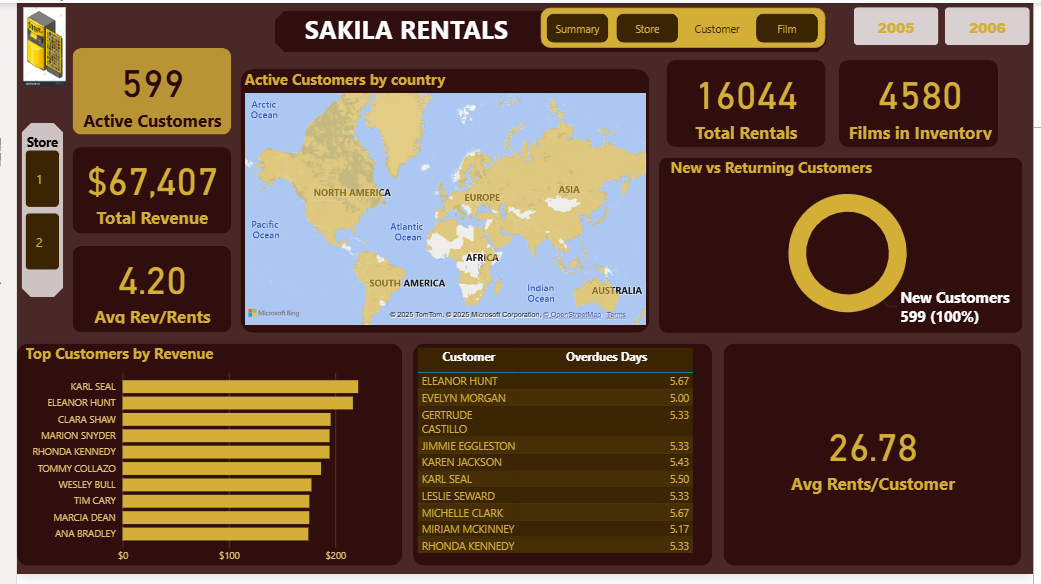

What the dashboard file says about the page in this screenshot:
{"tool":"powerbi","page":{"name":"Summary","canvas":[1280,720],"ordinal":0},"visuals":[{"type":"shape","box":[70.2,181.2,200,109],"z":0},{"type":"shape","box":[70,57.3,200,109],"z":1000},{"type":"shape","box":[70,305.4,200,109],"z":2000},{"type":"shape","box":[819.2,72.6,200.4,109.8],"z":3000},{"type":"shape","box":[1035.5,72.6,200.4,109.8],"z":4000},{"type":"shape","box":[0,429.5,485.1,279.9],"z":5000},{"type":"shape","box":[499.5,429.5,377,279.9],"z":6000},{"type":"shape","box":[890.7,429.5,375.4,279.9],"z":7000},{"type":"shape","box":[281.3,82.7,515.4,332.4],"z":8000},{"type":"shape","box":[324.5,9.5,695.1,52.5],"z":9000},{"type":"shape","box":[808,194.1,458.1,221.1],"z":10000},{"type":"textbox","box":[311.8,5.7,277.8,62.4],"z":11000},{"type":"card","title":"Total Revenue","fields":{"Values":["Rentals and Payment.Active Customers"]},"box":[70,58.9,200.4,103.4],"z":12000},{"type":"card","fields":{"Values":["Rentals and Payment.Total Revenue"]},"box":[70,181.3,200.4,103],"z":13000},{"type":"card","fields":{"Values":["Rentals and Payment.Avg Rev/Rents"]},"box":[70,305.4,200.4,103],"z":14000},{"type":"card","fields":{"Values":["Rentals and Payment.Total Rentals"]},"box":[819.2,73.2,200.4,103.4],"z":15000},{"type":"card","fields":{"Values":["Rentals and Payment.Films in Inventory"]},"box":[1037.1,73.2,200.4,103.4],"z":16000},{"type":"lineChart","title":"Revenue Trend","fields":{"Y":["Rentals and Payment.Total Revenue"],"Category":["Rentals and Payment.rental_date.Variation.Date Hierarchy.Year","Rentals and Payment.rental_date.Variation.Date Hierarchy.Quarter","Rentals and Payment.rental_date.Variation.Date Hierarchy.Month","Rentals and Payment.rental_date.Variation.Date Hierarchy.Day"]},"box":[808,194.1,458.1,221.1],"z":17000},{"type":"advancedSlicerVisual","fields":{"Values":["Rentals and Payment.rental_date.Variation.Date Hierarchy.Year"]},"box":[1048.2,0,232.2,58.9],"z":18000},{"type":"barChart","title":"Top Customers by Revenue","fields":{"Y":["Rentals and Payment.Total Revenue"],"Category":["sakila customer.Fullname"]},"box":[0,429,485.7,291],"z":19000},{"type":"donutChart","title":"Category Popularity","fields":{"Y":["Rentals and Payment.Total Rentals"],"Category":["sakila category.name"]},"box":[281.6,83.2,515.9,332.6],"z":20000},{"type":"tableEx","fields":{"Values":["sakila customer.Fullname","sakila summary.overdues_days"]},"box":[498.9,429,376.1,279.7],"z":21000},{"type":"columnChart","title":"Top Films by Rentals ","fields":{"Category":["sakila film.title"],"Y":["Rentals and Payment.Total Rentals"]},"box":[890.1,429,376.1,279.7],"z":22000},{"type":"shape","box":[659.5,5.7,359.1,51],"z":23000},{"type":"pageNavigator","box":[667.1,13.2,343.9,37.8],"z":24000},{"type":"shape","box":[4.8,150.7,52.5,219.5],"z":25000},{"type":"advancedSlicerVisual","title":"Store","fields":{"Values":["sakila inventory.store_id"]},"box":[4.8,165,52.5,178.1],"z":26000},{"type":"image","box":[0,0,69.9,109.6],"z":27000}]}

Visuals, with their boxes in screenshot pixels (x1, y1, x2, y2), scaled from the page's 1280x720 canvas onto the 1041x584 screenshot:
shape: (57, 147, 220, 235)
shape: (57, 46, 220, 135)
shape: (57, 248, 220, 336)
shape: (666, 59, 829, 148)
shape: (842, 59, 1005, 148)
shape: (0, 348, 395, 575)
shape: (406, 348, 713, 575)
shape: (724, 348, 1030, 575)
shape: (229, 67, 648, 337)
shape: (264, 8, 829, 50)
shape: (657, 157, 1030, 337)
textbox: (254, 5, 480, 55)
"Total Revenue" card: (57, 48, 220, 132)
card - Rentals and Payment.Total Revenue: (57, 147, 220, 231)
card - Rentals and Payment.Avg Rev/Rents: (57, 248, 220, 331)
card - Rentals and Payment.Total Rentals: (666, 59, 829, 143)
card - Rentals and Payment.Films in Inventory: (843, 59, 1006, 143)
"Revenue Trend" lineChart: (657, 157, 1030, 337)
advancedSlicerVisual - Rentals and Payment.rental_date.Variation.Date Hierarchy.Year: (852, 0, 1040, 48)
"Top Customers by Revenue" barChart: (0, 348, 395, 583)
"Category Popularity" donutChart: (229, 67, 649, 337)
tableEx - sakila customer.Fullname x sakila summary.overdues_days: (406, 348, 712, 575)
"Top Films by Rentals " columnChart: (724, 348, 1030, 575)
shape: (536, 5, 828, 46)
pageNavigator: (543, 11, 822, 41)
shape: (4, 122, 47, 300)
"Store" advancedSlicerVisual: (4, 134, 47, 278)
image: (0, 0, 57, 89)
